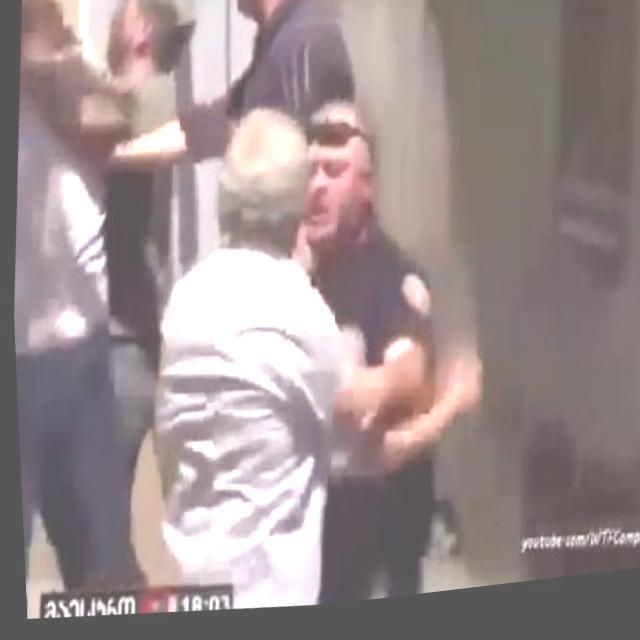fight: (134, 91, 463, 628)
